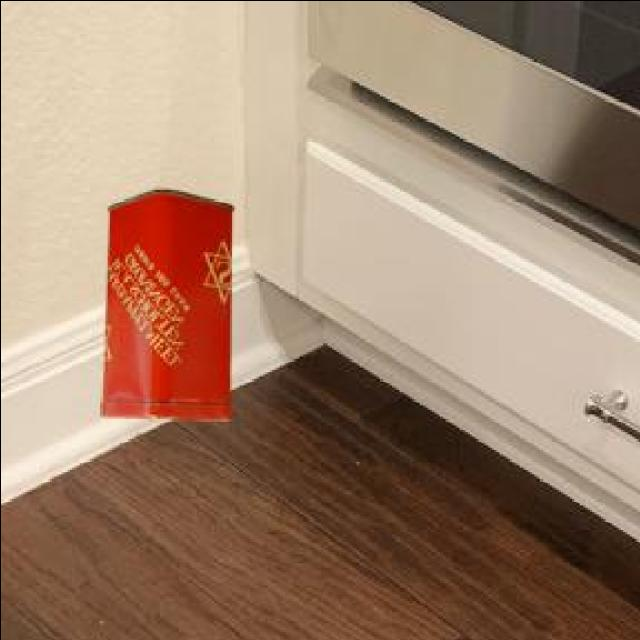logam: (106, 186, 237, 417)
